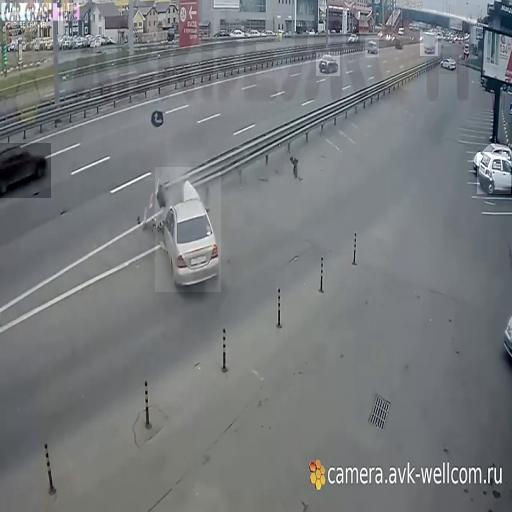小汽车: (0, 143, 51, 198), (477, 152, 511, 194), (316, 52, 340, 76), (420, 30, 438, 56), (439, 54, 459, 74), (365, 38, 379, 57), (346, 32, 360, 46)
小汽车撞物: (155, 167, 221, 292)
